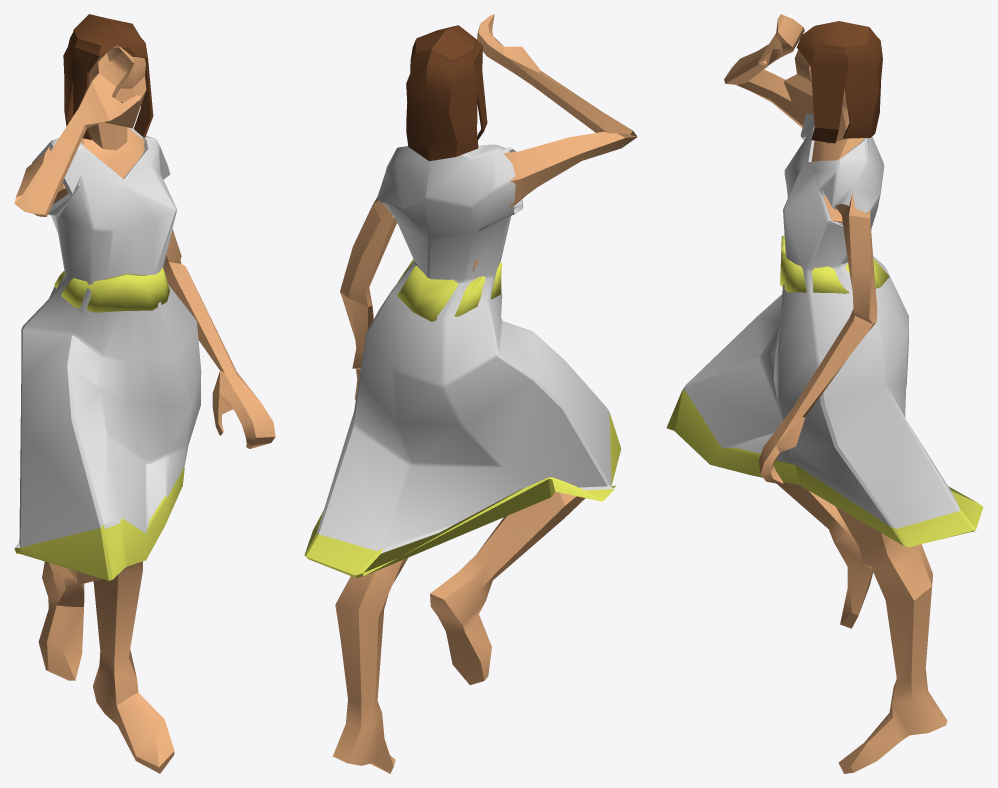
File: greek-female.fbx
3 renders of one model, left to right at view 1: azimuth 30°, elevation 25°; view 2: azimuth 150°, elevation 25°; view 3: azimuth 270°, elevation 25°, orthographic. The views are drawn at different scales.
Visible parts, largest first — view 1: GIRLGOD, GIRLGOD.001, GIRLGOD.009, GIRLGOD.002; view 2: GIRLGOD, GIRLGOD.001, GIRLGOD.009, GIRLGOD.002; view 3: GIRLGOD, GIRLGOD.001, GIRLGOD.009, GIRLGOD.002.
Part boxes in pixels (x1,y1,x2,y2): GIRLGOD: (14, 127, 201, 580); GIRLGOD.001: (14, 45, 275, 773); GIRLGOD.009: (63, 14, 153, 139); GIRLGOD.002: (54, 267, 169, 312); GIRLGOD: (304, 144, 621, 577); GIRLGOD.001: (332, 14, 637, 773); GIRLGOD.009: (406, 25, 487, 161); GIRLGOD.002: (397, 259, 501, 321); GIRLGOD: (666, 113, 983, 547); GIRLGOD.001: (724, 14, 947, 773); GIRLGOD.009: (796, 21, 882, 143); GIRLGOD.002: (780, 235, 889, 293).
Size of the model in its own units: 64.88 by 176 by 69.59.
